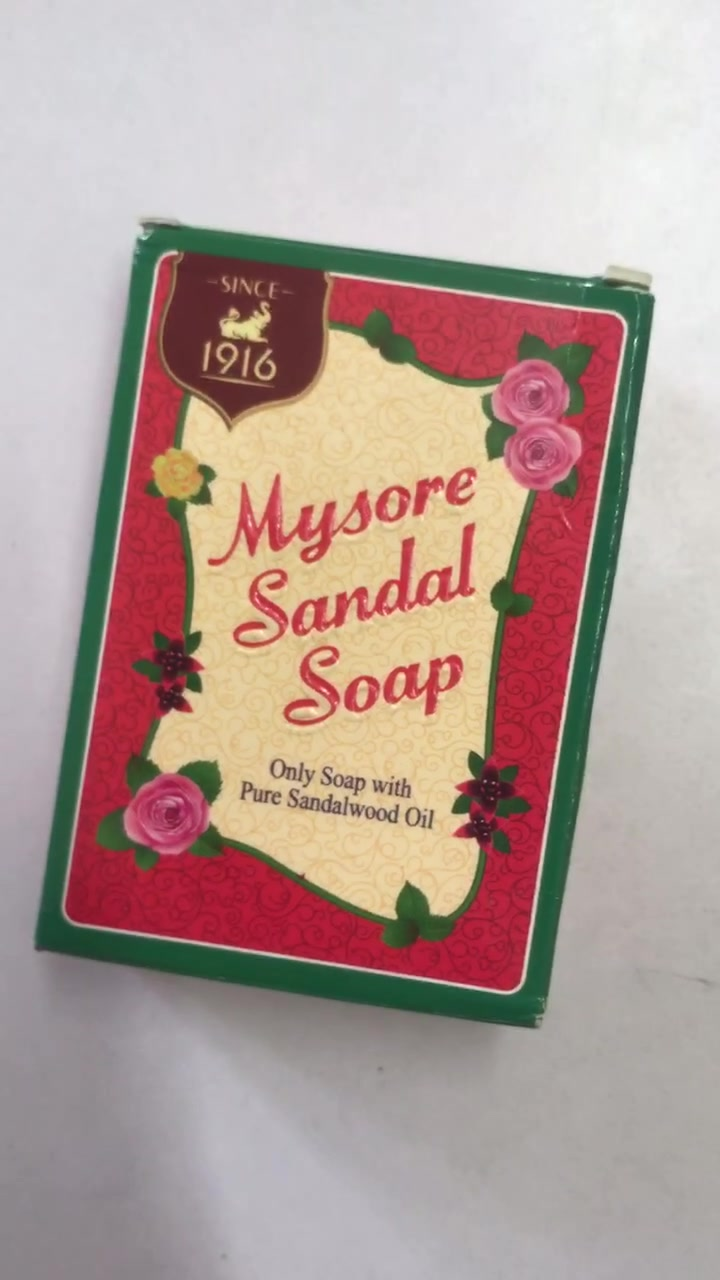mysore sandal soap: (44, 217, 624, 1037)
